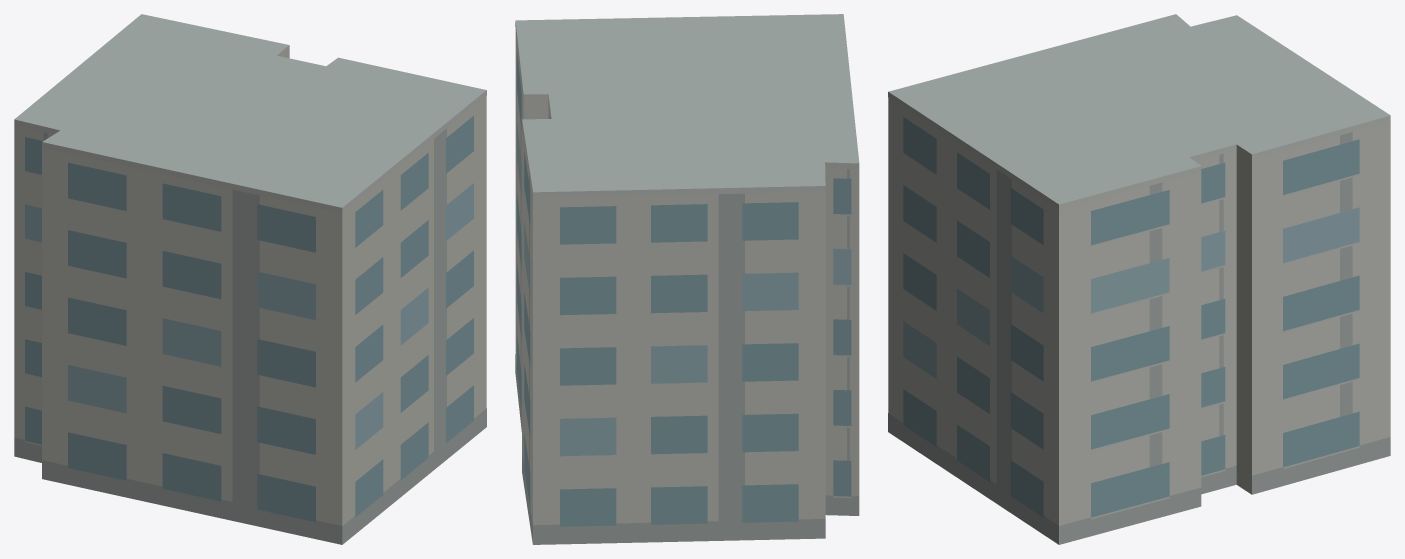
The model's file is survey-upis-33023001.glb.
3 renders of one model, left to right at view 1: azimuth 30°, elevation 25°; view 2: azimuth 150°, elevation 25°; view 3: azimuth 270°, elevation 25°, orthographic. The views are drawn at different scales.
Parts seen in each view (by area): view 1: survey-upis-33023001.tmp; view 2: survey-upis-33023001.tmp; view 3: survey-upis-33023001.tmp.
Part boxes in pixels (x1=…): survey-upis-33023001.tmp: x1=14, y1=14, x2=486, y2=544; survey-upis-33023001.tmp: x1=515, y1=14, x2=859, y2=544; survey-upis-33023001.tmp: x1=888, y1=14, x2=1390, y2=544.
Size of the model in its own units: 17.18 by 14.3 by 19.14.
